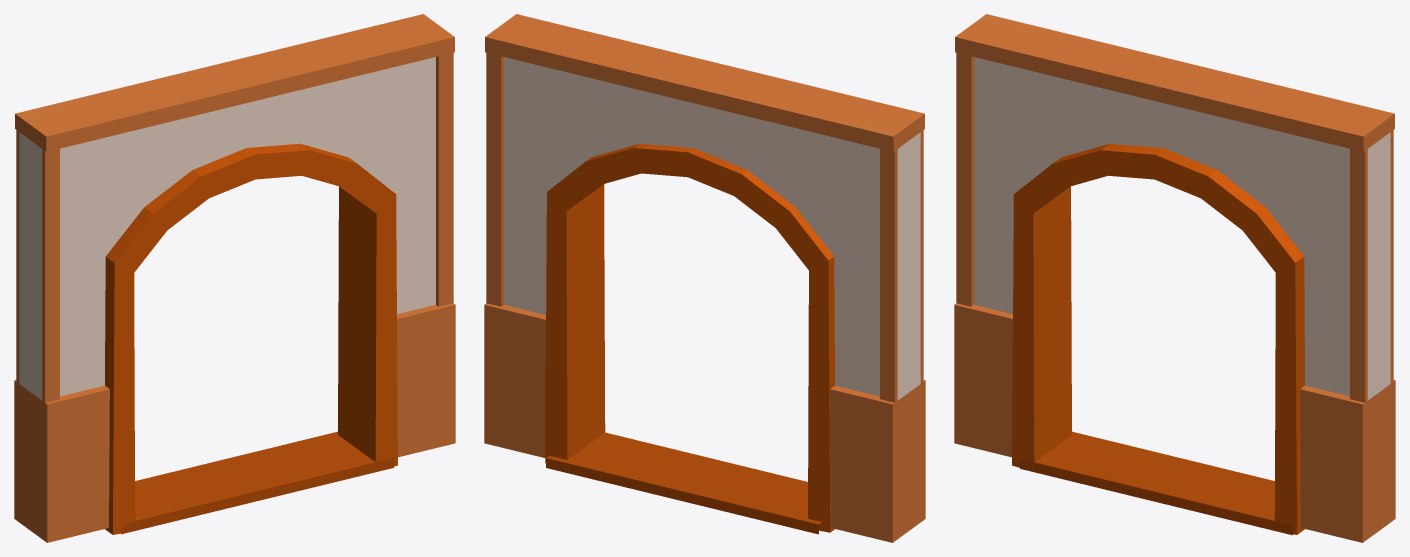
File: C_Door_Circle_Corner.fbx
The picture shows the model from 3 angles, left to right: view 1: azimuth 30°, elevation 25°; view 2: azimuth 150°, elevation 25°; view 3: azimuth 330°, elevation 25°; orthographic projection.
Visible parts, largest first — view 1: C_Door_Circle_Corner; view 2: C_Door_Circle_Corner; view 3: C_Door_Circle_Corner.
Boxes of the visible parts, x1,y1,x2,y2 form: C_Door_Circle_Corner: (14,14,455,542); C_Door_Circle_Corner: (484,14,925,542); C_Door_Circle_Corner: (954,14,1395,542).
Bounding box in the file's own units: 400 × 385 × 69.46.
